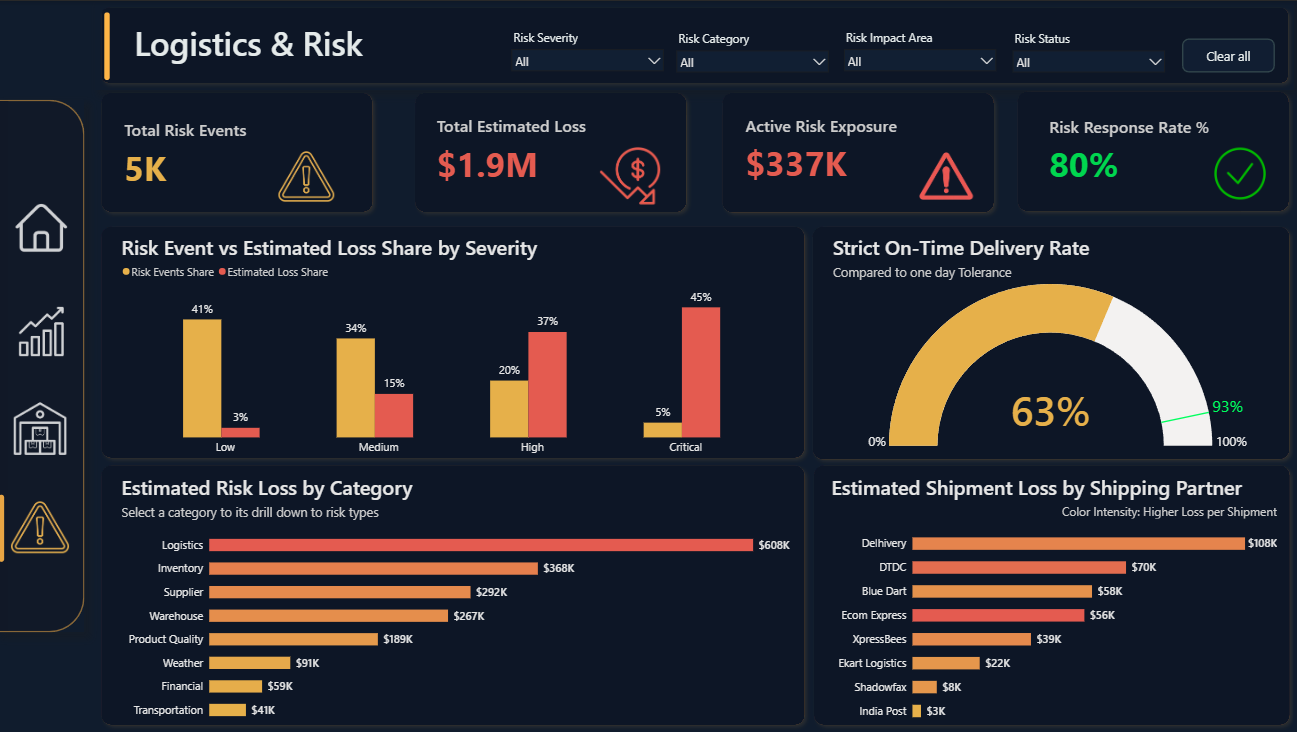

What the dashboard file says about the page in this screenshot:
{"tool":"powerbi","page":{"name":"Logistics & Risk","canvas":[1920,1080],"ordinal":3},"visuals":[{"type":"shape","box":[143.6,0,1768.7,130.7],"z":0},{"type":"shape","box":[143.1,126.1,419.8,195.8],"z":1000},{"type":"shape","box":[606.2,126.1,419.8,195.8],"z":2000},{"type":"shape","box":[1059.4,125.2,419.9,196.5],"z":3000},{"type":"shape","box":[1492.8,123.3,419.9,196.5],"z":4000},{"type":"shape","box":[143.1,321.9,1056.2,361.5],"z":5000},{"type":"shape","box":[1191.8,321.9,723,363.4],"z":6000},{"type":"shape","box":[1192.6,673.9,721.5,403.1],"z":7000},{"type":"shape","box":[143.6,673.9,1056.4,403.1],"z":8000},{"type":"cardVisual","fields":{"Data":["_Measures.Resolution Rate %"]},"box":[1520.4,143.8,328,154.8],"z":9000},{"type":"clusteredBarChart","title":"Estimated Risk Loss by Category","fields":{"Category":["dim_risk_classify.risk_category","dim_risk_detail.risk_type"],"Y":["_Measures.Total Estimated Loss"]},"box":[180.4,696.3,990.6,371.9],"z":10000},{"type":"textbox","box":[197.2,24,510.5,101.4],"z":11000},{"type":"slicer","title":"Gender","fields":{"Values":["dim_risk_resolution.status"]},"box":[1486.8,38.7,244.8,69.9],"z":12000},{"type":"slicer","fields":{"Values":["dim_risk_detail.impact_area"]},"box":[1238.3,36.8,244.8,69.9],"z":13000},{"type":"slicer","title":"Date","fields":{"Values":["dim_risk_classify.risk_category"]},"box":[991.7,38.7,244.8,68.1],"z":14000},{"type":"cardVisual","fields":{"Data":["_Measures.Unresolved Estimated Loss"]},"box":[1073.7,136.2,360.7,165.6],"z":15000},{"type":"cardVisual","fields":{"Data":["_Measures.Total Risk Events"]},"box":[158.7,149.2,290.2,153.9],"z":16000},{"type":"cardVisual","fields":{"Data":["_Measures.Total Estimated Loss"]},"box":[619.1,137.7,283.4,163.8],"z":17000},{"type":"gauge","title":"Strict On-Time Delivery Rate","fields":{"Y":["_Measures.On-Time Delivery Rate %"],"TargetValue":["_Measures.On-Time Rate (1-day tolerance)"]},"box":[1226.2,342.5,672,322.2],"z":18000},{"type":"slicer","title":"Date","fields":{"Values":["dim_risk_classify.severity"]},"box":[746.9,36.8,244.8,66.3],"z":19000},{"type":"clusteredColumnChart","title":"Risk Event vs Estimated Loss Share by Severity","fields":{"Category":["dim_risk_classify.severity"],"Y":["_Measures.Risk Events Share%","_Measures.Estimated Loss Share %"]},"box":[180.4,342.5,986.9,331.4],"z":20000},{"type":"image","box":[1345.4,217.1,104.9,82],"z":21000},{"type":"image","box":[879.8,213.5,104.9,88.3],"z":22000},{"type":"image","box":[1779.8,211.7,104.9,84.7],"z":23000},{"type":"image","box":[403.1,217.1,104.9,82],"z":24000},{"type":"clusteredBarChart","title":"Estimated Shipment Loss by Shipping Partner","fields":{"Category":["dim_ship_junk.shipping_partner"],"Y":["_Measures.Total Estimated Loss"]},"box":[1226.2,696.3,659.2,373.8],"z":25000},{"type":"shape","box":[0,145.7,128.9,784.6],"z":26000},{"type":"image","box":[16.8,732.3,93.4,85],"z":27000},{"type":"shape","box":[0,147.4,16.6,780],"z":28000},{"type":"shape","box":[0,727.3,13.1,98.8],"z":29000},{"type":"actionButton","box":[1745.7,55.9,136.8,50.1],"z":30000},{"type":"image","box":[12.9,296.7,105,75.6],"z":31000},{"type":"image","box":[12.9,449.7,105,75.6],"z":32000},{"type":"image","box":[11.1,591.6,105,77.4],"z":33000},{"type":"shape","box":[138,16.6,47.9,100],"z":34000}]}

Visuals, with their boxes in screenshot pixels (x1, y1, x2, y2), scaled from the page's 1920x1080 canvas onto the 1297x732 screenshot:
shape: x1=97, y1=0, x2=1292, y2=89
shape: x1=97, y1=85, x2=380, y2=218
shape: x1=410, y1=85, x2=693, y2=218
shape: x1=716, y1=85, x2=999, y2=218
shape: x1=1008, y1=84, x2=1292, y2=217
shape: x1=97, y1=218, x2=810, y2=463
shape: x1=805, y1=218, x2=1293, y2=464
shape: x1=806, y1=457, x2=1293, y2=730
shape: x1=97, y1=457, x2=811, y2=730
cardVisual - _Measures.Resolution Rate %: x1=1027, y1=97, x2=1249, y2=202
"Estimated Risk Loss by Category" clusteredBarChart: x1=122, y1=472, x2=791, y2=724
textbox: x1=133, y1=16, x2=478, y2=85
"Gender" slicer: x1=1004, y1=26, x2=1170, y2=74
slicer - dim_risk_detail.impact_area: x1=836, y1=25, x2=1002, y2=72
"Date" slicer: x1=670, y1=26, x2=835, y2=72
cardVisual - _Measures.Unresolved Estimated Loss: x1=725, y1=92, x2=969, y2=205
cardVisual - _Measures.Total Risk Events: x1=107, y1=101, x2=303, y2=205
cardVisual - _Measures.Total Estimated Loss: x1=418, y1=93, x2=610, y2=204
"Strict On-Time Delivery Rate" gauge: x1=828, y1=232, x2=1282, y2=451
"Date" slicer: x1=505, y1=25, x2=670, y2=70
"Risk Event vs Estimated Loss Share by Severity" clusteredColumnChart: x1=122, y1=232, x2=789, y2=457
image: x1=909, y1=147, x2=980, y2=203
image: x1=594, y1=145, x2=665, y2=205
image: x1=1202, y1=143, x2=1273, y2=201
image: x1=272, y1=147, x2=343, y2=203
"Estimated Shipment Loss by Shipping Partner" clusteredBarChart: x1=828, y1=472, x2=1274, y2=725
shape: x1=0, y1=99, x2=87, y2=631
image: x1=11, y1=496, x2=74, y2=554
shape: x1=0, y1=100, x2=11, y2=629
shape: x1=0, y1=493, x2=9, y2=560
actionButton: x1=1179, y1=38, x2=1272, y2=72
image: x1=9, y1=201, x2=80, y2=252
image: x1=9, y1=305, x2=80, y2=356
image: x1=7, y1=401, x2=78, y2=453
shape: x1=93, y1=11, x2=126, y2=79
